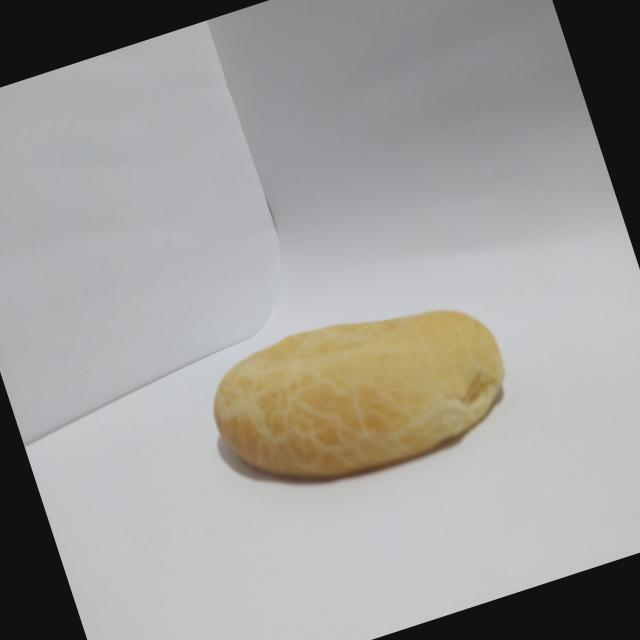Chipa: (184, 262, 542, 524)
